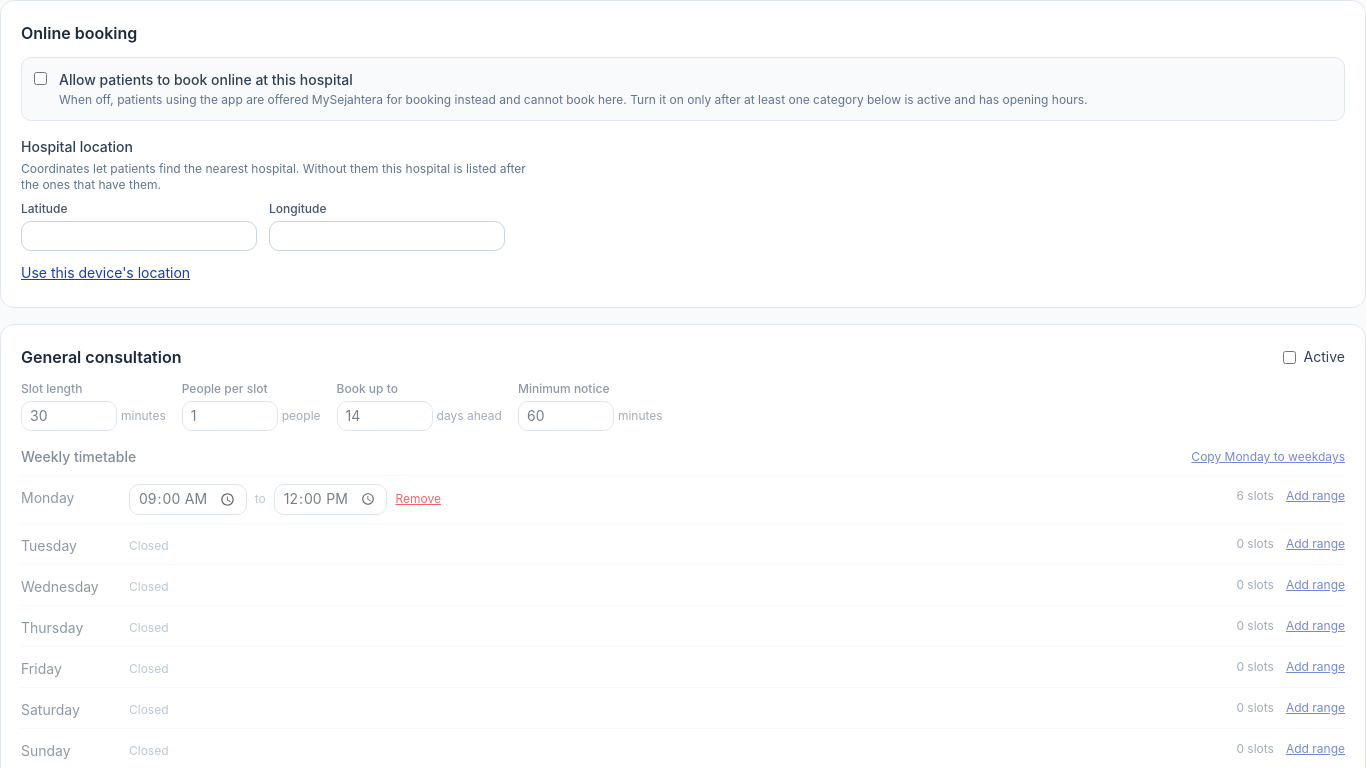
Scenario: OnlineBookingTab › shows the server's validation message
Expected: the text "Hospital location" is shown, [21,137,133,157]
Click the checkbox labelled "Allow patients to book online at this hospital": (40, 78) [34,72,47,85]
(page scrolled)
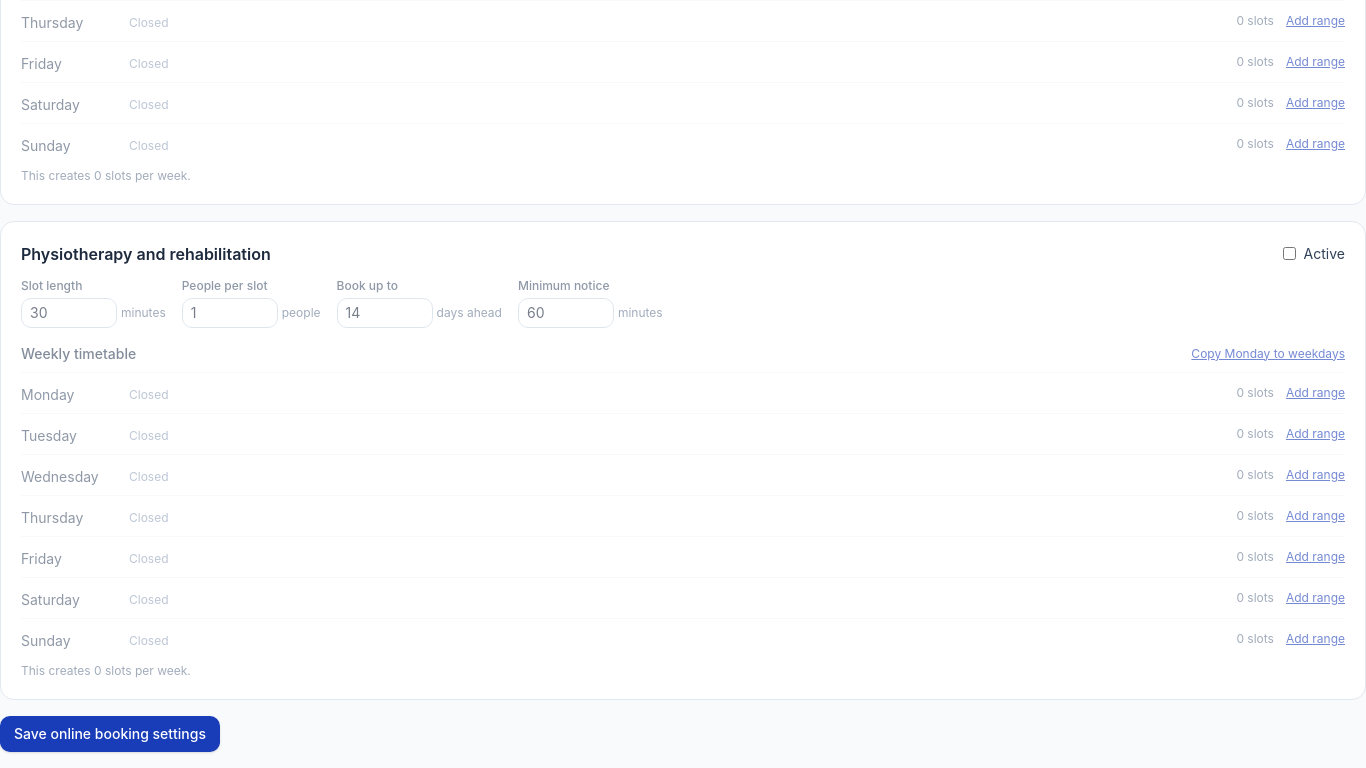
Click the button "Save online booking settings": (110, 734) [0,716,220,752]
(page scrolled)
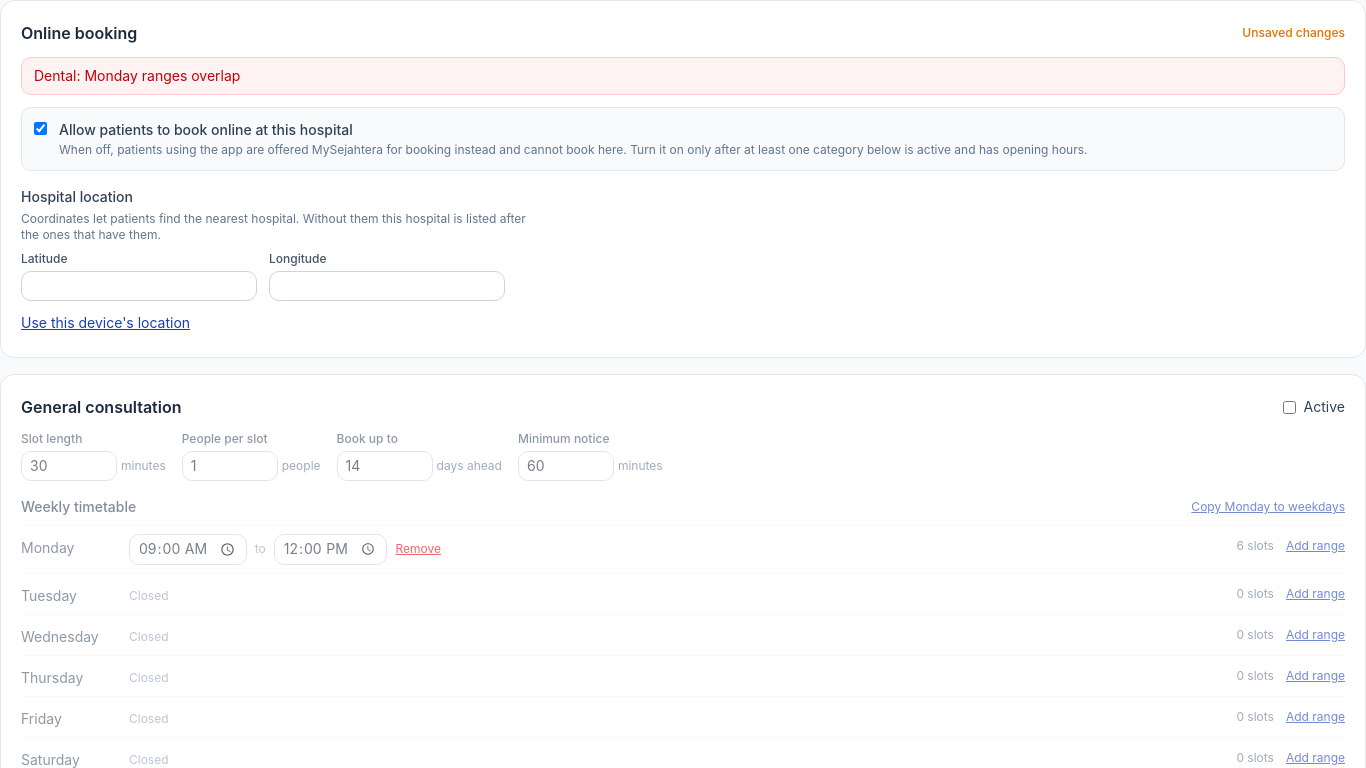
Expected: the text "Unsaved changes" is shown, [1242,25,1345,41]
Expected: the message reads "Dental: Monday ranges overlap", [34,67,240,84]
